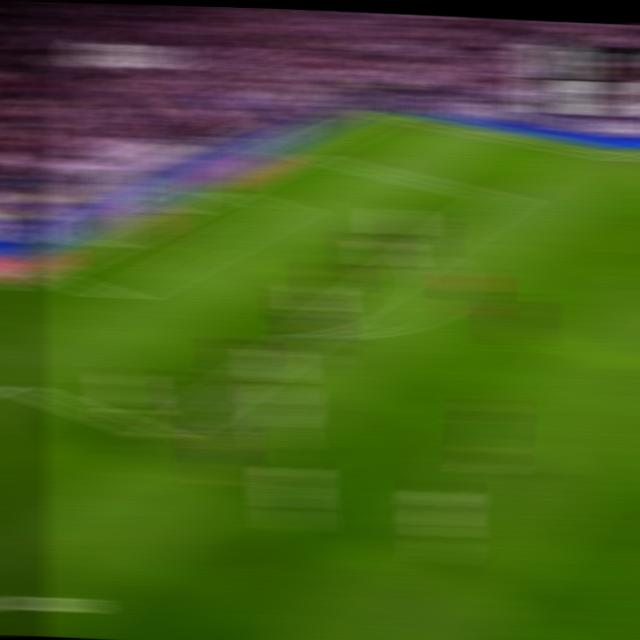bigarea_bottom_inner: (145, 422, 180, 451)
bigarea_top_inner: (489, 192, 517, 205)
bigarea_top_outter: (289, 146, 318, 158)
corner: (369, 108, 400, 118)
smallarea_top_inner: (273, 203, 300, 215)
top_arc_area_intersection: (408, 245, 441, 262)
